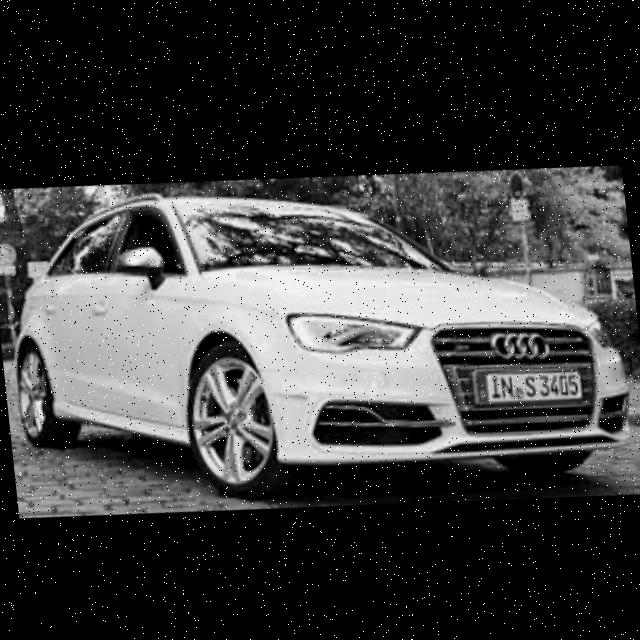license-plates: (476, 371, 584, 404)
